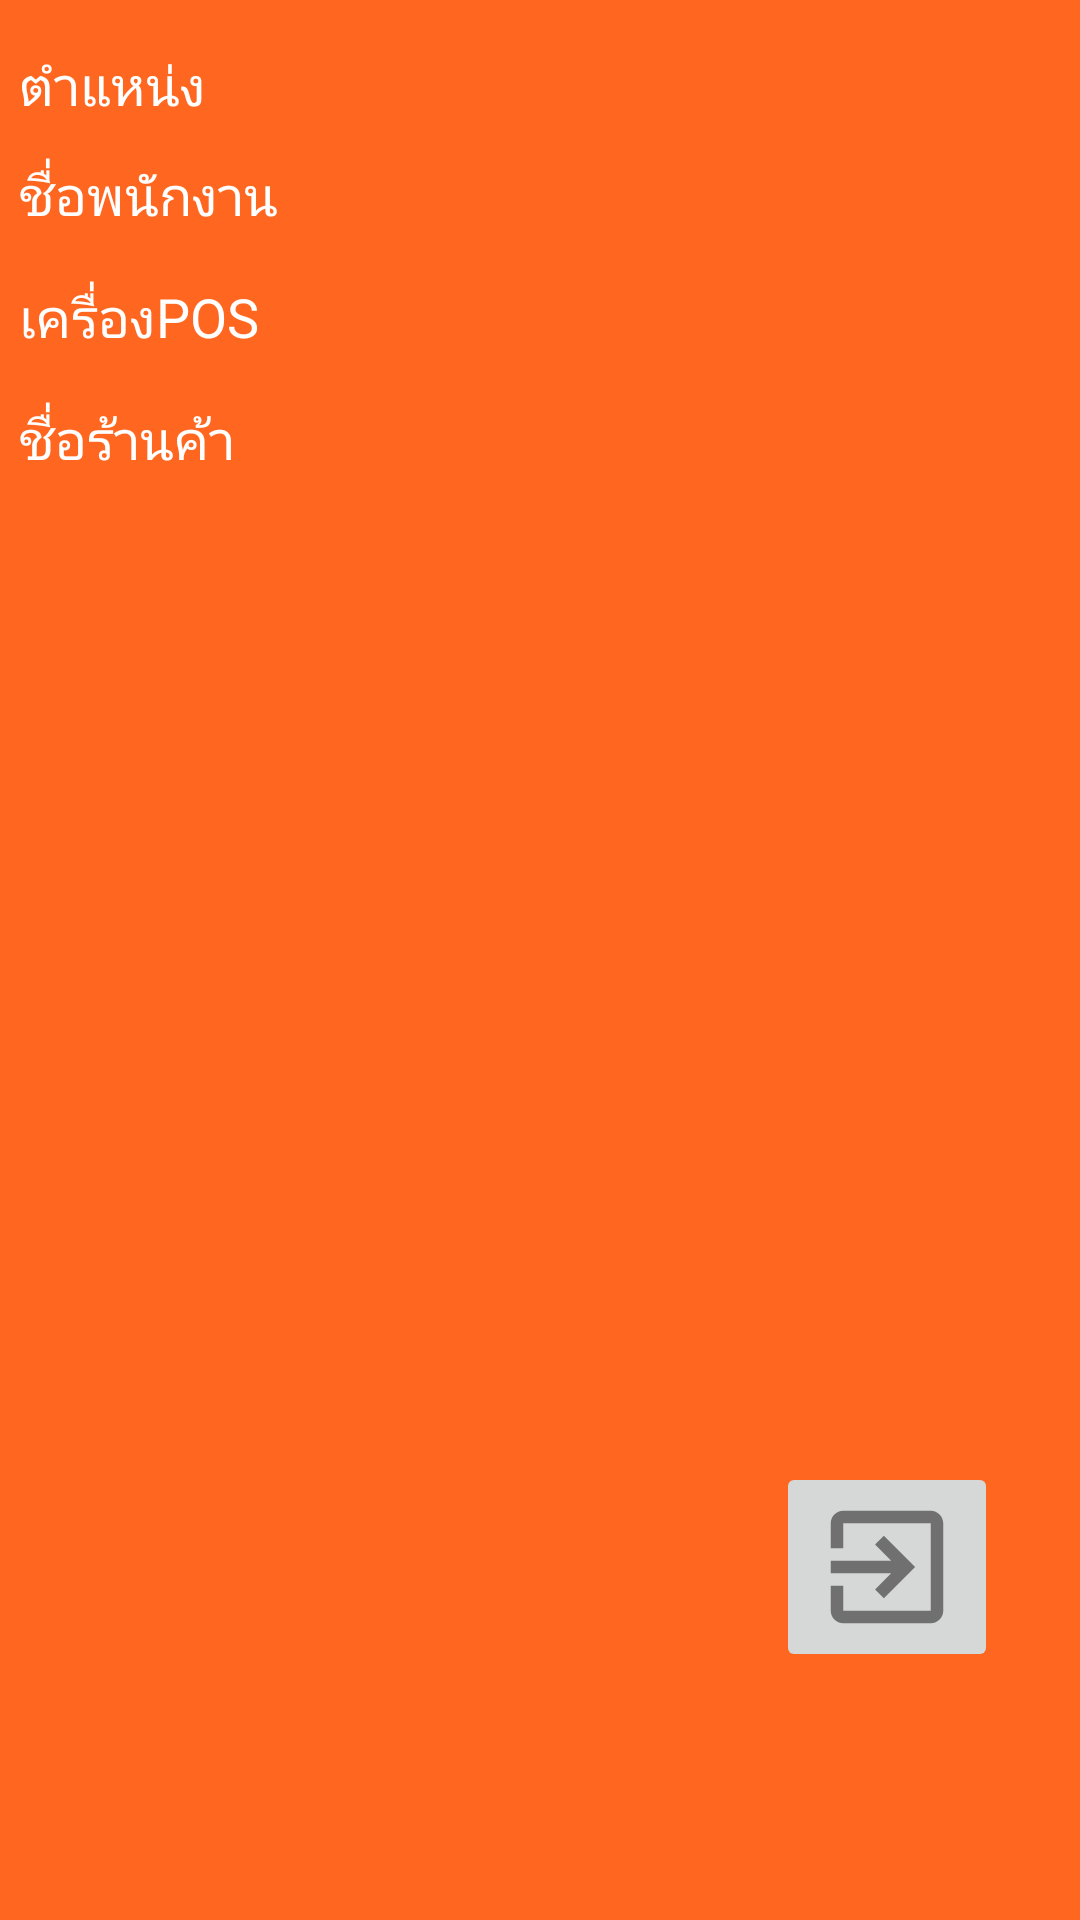

Locate icon controls on the screen. Image size 1080x1920, boxes as Rect(x1, y1, x2, y2).
exit to app: Rect(788, 1480, 986, 1654)
